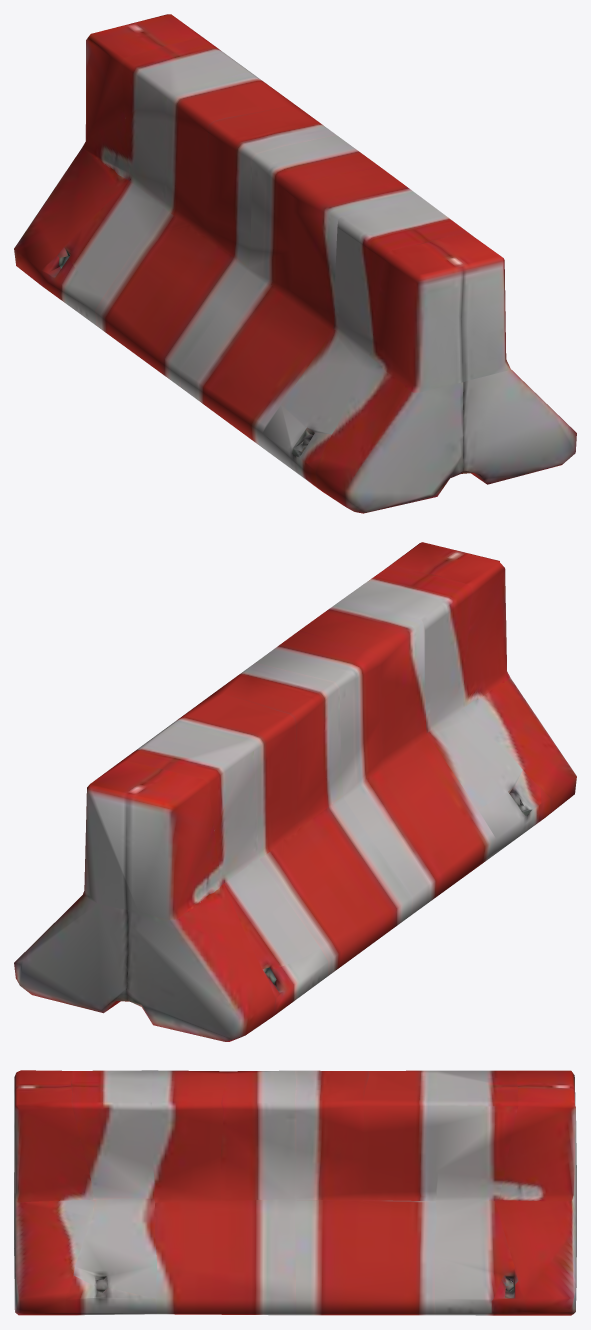
Rendered from safety-barrier.glb.
3 views of the same model, one above another, from view 1: azimuth 30°, elevation 25°; view 2: azimuth 150°, elevation 25°; view 3: azimuth 270°, elevation 25° (orthographic). The views are drawn at different scales.
Parts seen in each view (by area): view 1: tripo_node_5cfa4e8b-b768-497a-8a36-ec2522194437; view 2: tripo_node_5cfa4e8b-b768-497a-8a36-ec2522194437; view 3: tripo_node_5cfa4e8b-b768-497a-8a36-ec2522194437.
Part boxes in pixels (x1,y1,x2,y2): tripo_node_5cfa4e8b-b768-497a-8a36-ec2522194437: (14, 14, 576, 513); tripo_node_5cfa4e8b-b768-497a-8a36-ec2522194437: (14, 542, 576, 1041); tripo_node_5cfa4e8b-b768-497a-8a36-ec2522194437: (14, 1070, 576, 1315).
Size of the model in its own units: 0.4027 by 0.3713 by 0.9998.
1 material, 1 textured.
